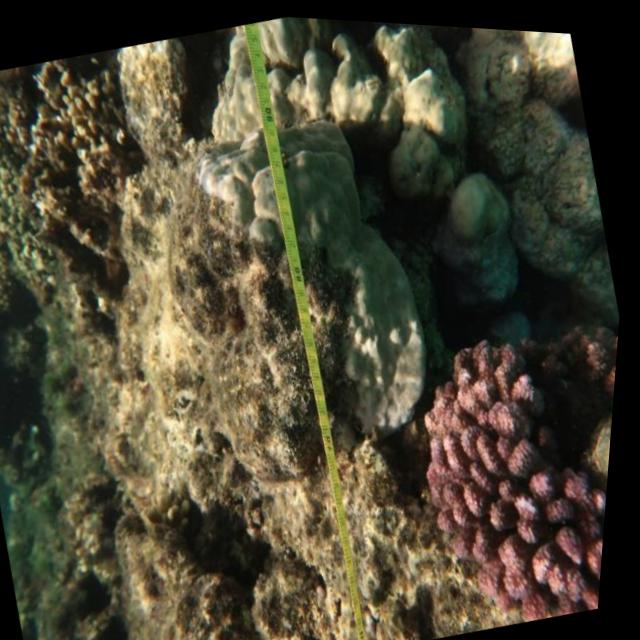Bleached Coral: (389, 299, 624, 636), (519, 292, 624, 416)
